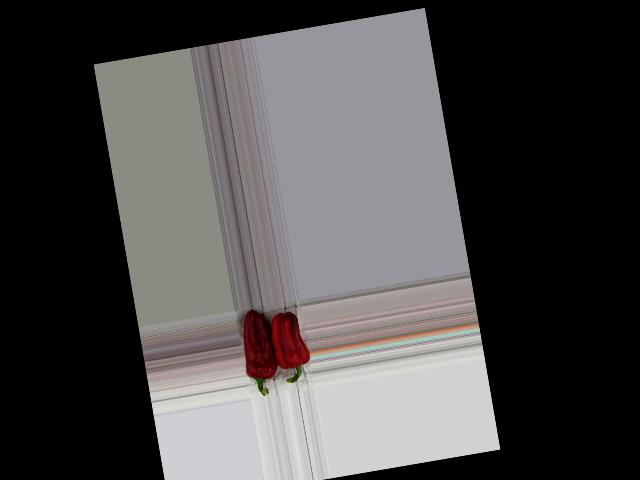bell_pepper: (236, 306, 283, 400)
